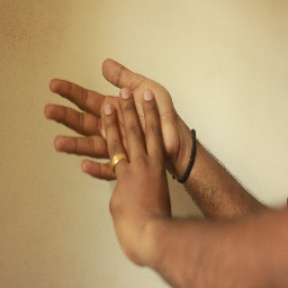M: (46, 56, 186, 226)
